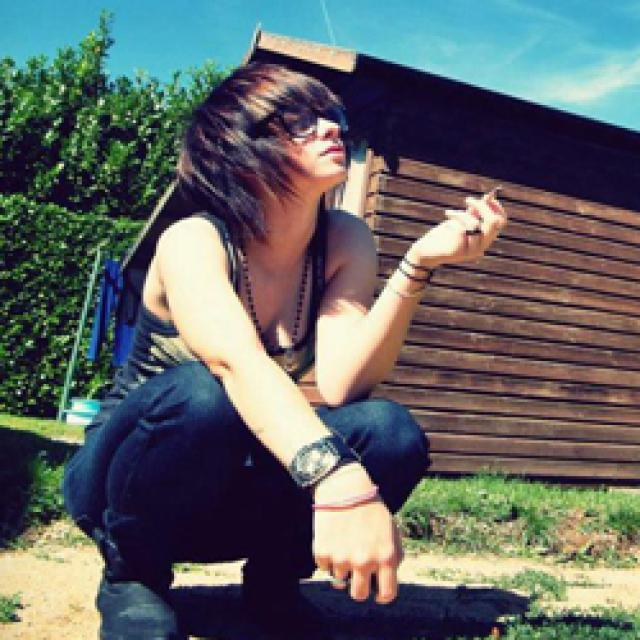Smooking: (469, 171, 512, 200)
